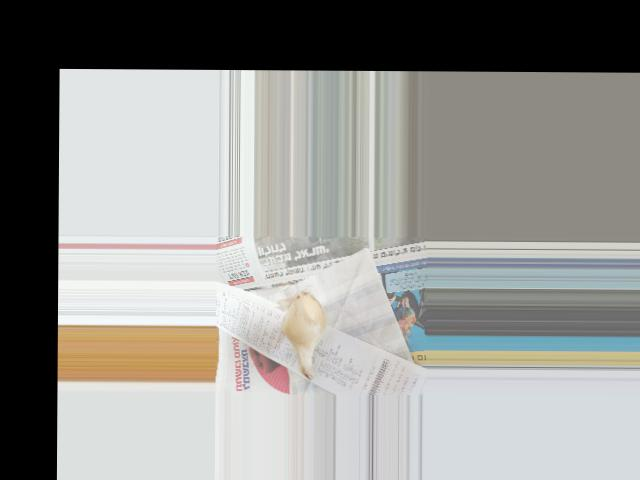onion: (284, 295, 325, 358)
